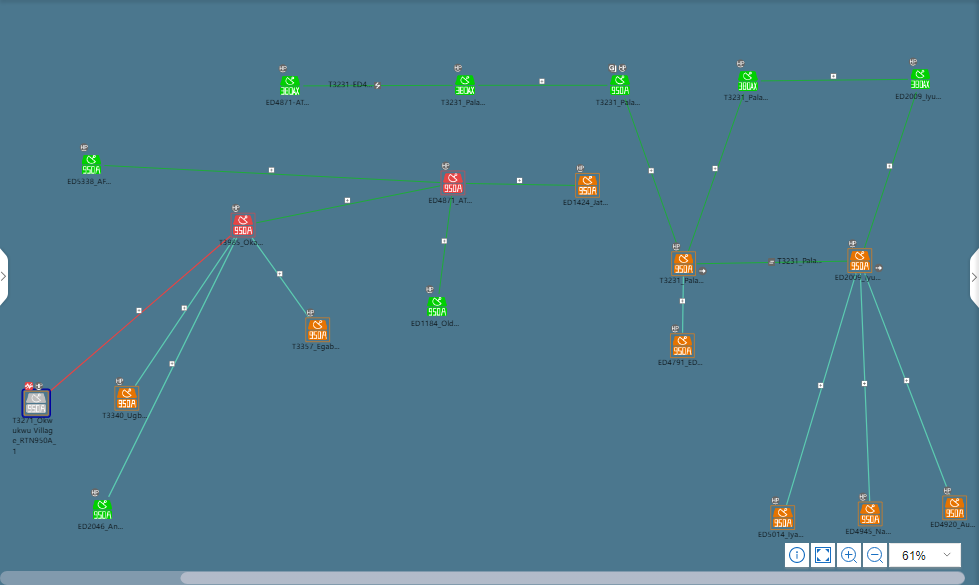Link_Blue: (107, 234, 240, 493), (866, 286, 947, 488), (132, 234, 240, 384), (786, 271, 855, 493), (254, 240, 303, 311), (860, 338, 877, 496)
Link_Green: (860, 94, 916, 251), (688, 94, 748, 240), (621, 100, 678, 245), (254, 185, 425, 227), (101, 161, 436, 181), (303, 81, 450, 92), (762, 75, 906, 86), (480, 81, 604, 92), (468, 179, 577, 190), (437, 198, 451, 277), (694, 259, 777, 270)
Link_Red: (52, 234, 226, 386)
RTN_Gray: (21, 393, 50, 416)
RTN_Green: (278, 75, 301, 98), (83, 155, 106, 178), (609, 75, 632, 98), (425, 296, 448, 319), (909, 69, 932, 92), (456, 75, 479, 98), (737, 69, 760, 91), (95, 497, 110, 519)
RTN_Orange: (670, 332, 699, 361), (768, 510, 797, 533), (113, 387, 142, 409), (670, 253, 699, 274), (309, 320, 332, 343), (578, 173, 601, 196), (945, 497, 968, 519), (847, 253, 869, 276), (860, 504, 881, 527)
RTN_Red: (229, 216, 259, 239), (444, 173, 467, 196)
